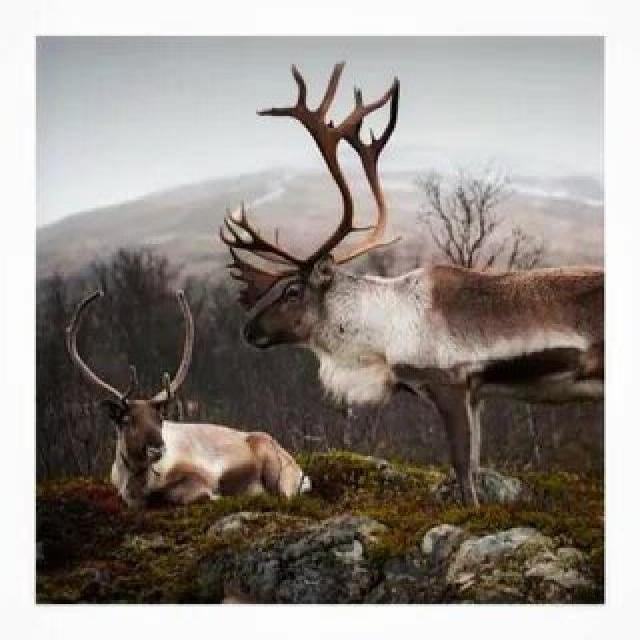deer: (220, 121, 640, 530), (74, 314, 378, 574)
